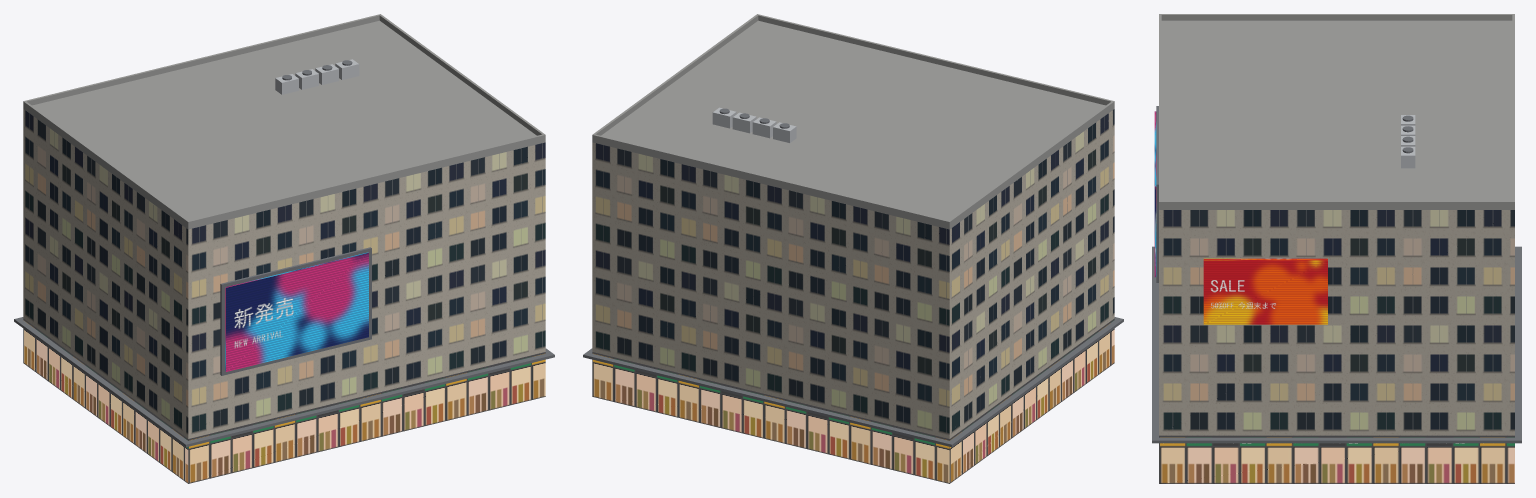
Rendered from dept_store.glb.
3 renders of one model, left to right at view 1: azimuth 30°, elevation 25°; view 2: azimuth 150°, elevation 25°; view 3: azimuth 270°, elevation 25°, orthographic. The views are drawn at different scales.
Parts seen in each view (by area): view 1: dept_store; view 2: dept_store; view 3: dept_store.
Part boxes in pixels (bbox=[...]): dept_store: bbox=[14, 14, 554, 483]; dept_store: bbox=[583, 14, 1123, 483]; dept_store: bbox=[1152, 14, 1521, 483].
Size of the model in its own units: 51.6 by 36.1 by 41.6.
Materials: 7 (4 with a texture image).
